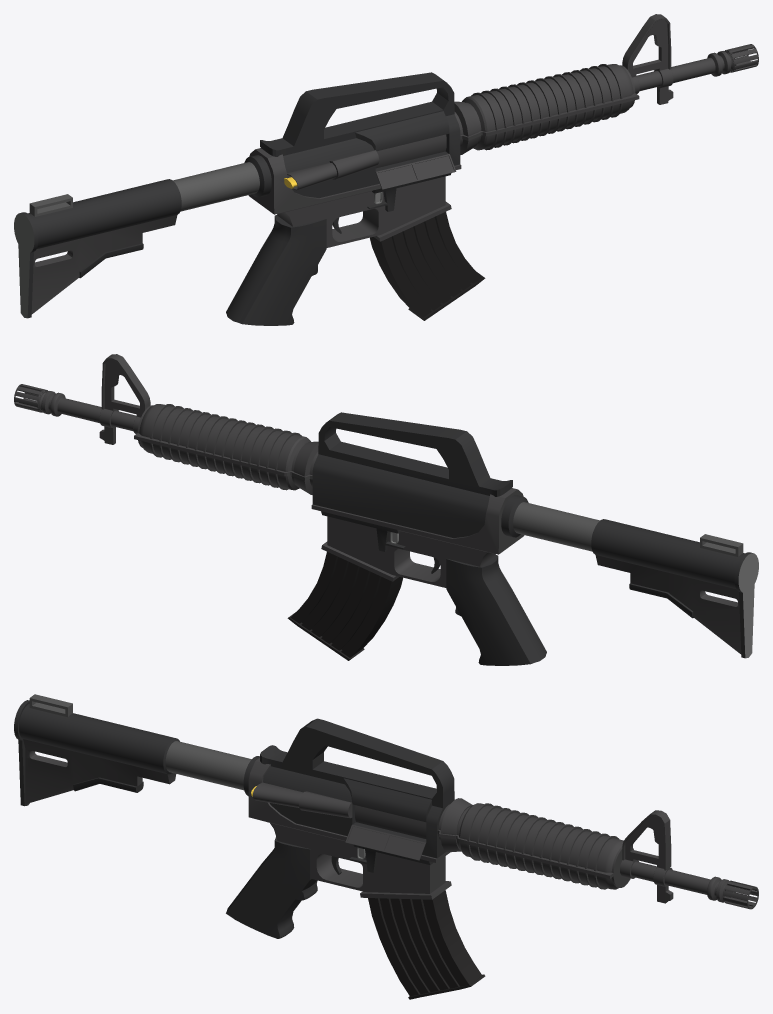
File: Colt_M16A2_Mesh.fbx
3 renders of one model, top to bottom at view 1: azimuth 30°, elevation 25°; view 2: azimuth 150°, elevation 25°; view 3: azimuth 330°, elevation 25°, orthographic.
Visible parts, largest first — view 1: Colt_M16A2; view 2: Colt_M16A2; view 3: Colt_M16A2.
Part boxes in pixels (x1,y1,x2,y2): Colt_M16A2: (14, 14, 758, 325); Colt_M16A2: (14, 354, 758, 665); Colt_M16A2: (14, 694, 758, 999).
Size of the model in its own units: 0.7622 by 0.2458 by 0.0683.
